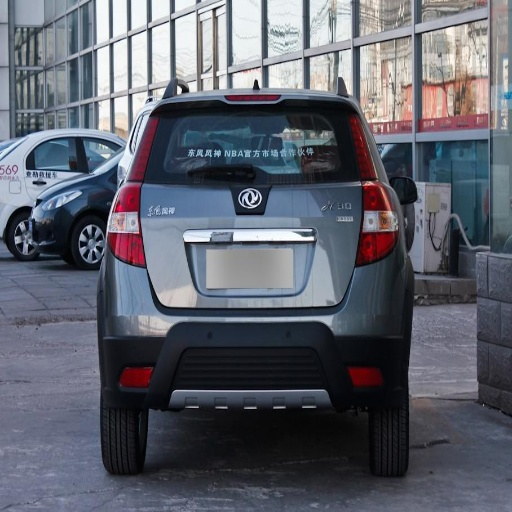back_bumper: (101, 248, 411, 411)
